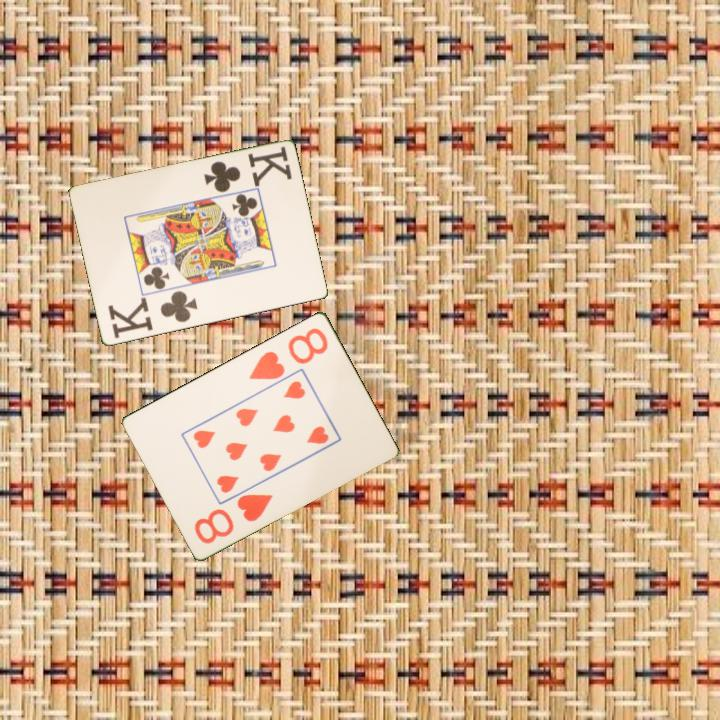8h: (245, 324, 331, 382), (191, 490, 276, 547)
Kc: (104, 287, 200, 342), (200, 143, 295, 196)
